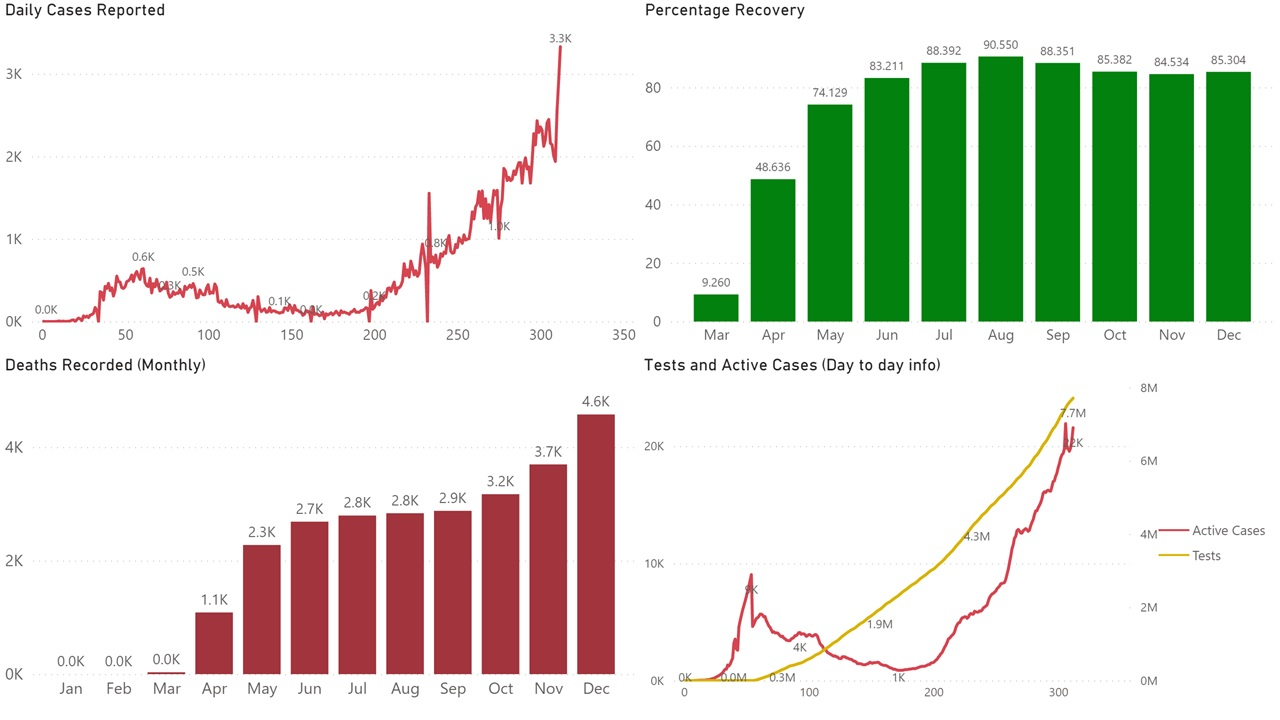

What the dashboard file says about the page in this screenshot:
{"tool":"powerbi","page":{"name":"Page 1","canvas":[1280,720],"ordinal":0},"visuals":[{"type":"clusteredColumnChart","title":"Percentage Recovery","fields":{"Category":["Ontario.Monthh"],"Y":["Avg(Ontario.percentrecover)"]},"box":[640.3,0,639.4,360.2],"z":0},{"type":"lineChart","title":"Daily Cases Reported","fields":{"Y":["Sum(Ontario.numtoday)"],"Category":["Ontario.Index"]},"box":[0,0,640.3,360.2],"z":1000},{"type":"clusteredColumnChart","title":"Deaths Recorded (Monthly)","fields":{"Y":["Max(Ontario.numdeaths)"],"Category":["Ontario.Monthh"]},"box":[0,360.5,639.4,359.5],"z":2000},{"type":"lineChart","title":"Tests and Active Cases (Day to day info)","fields":{"Category":["Ontario.Index"],"Y":["Sum(Ontario.numactive)"],"Y2":["Sum(Ontario.numtests)"]},"box":[639.4,360.2,640.3,360.2],"z":3000}]}

Visuals, with their boxes in screenshot pixels (x1, y1, x2, y2), scaled from the page's 1280x720 canvas onto the 1280x720 screenshot:
"Percentage Recovery" clusteredColumnChart: 640,0,1279,360
"Daily Cases Reported" lineChart: 0,0,640,360
"Deaths Recorded (Monthly)" clusteredColumnChart: 0,360,639,719
"Tests and Active Cases (Day to day info)" lineChart: 639,360,1279,719
